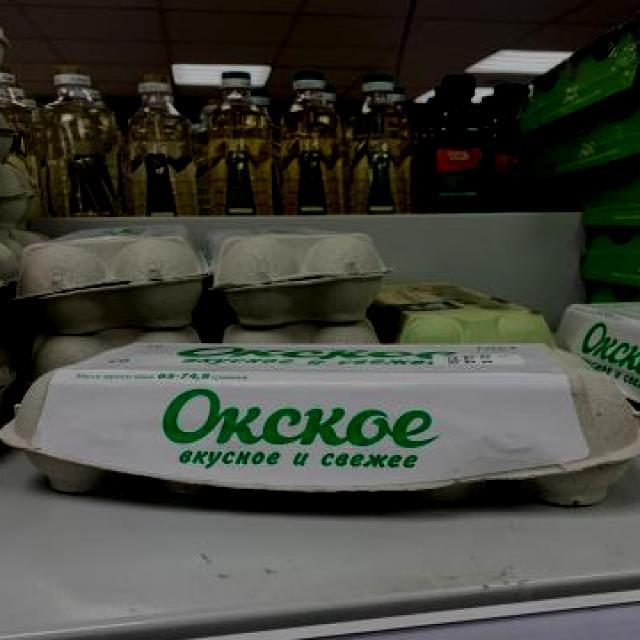egg: (0, 340, 640, 512), (19, 238, 203, 331), (208, 233, 388, 327), (38, 64, 118, 228), (198, 67, 278, 216), (119, 66, 194, 224), (274, 63, 346, 216), (348, 72, 413, 220), (422, 74, 488, 214), (492, 77, 534, 215)
